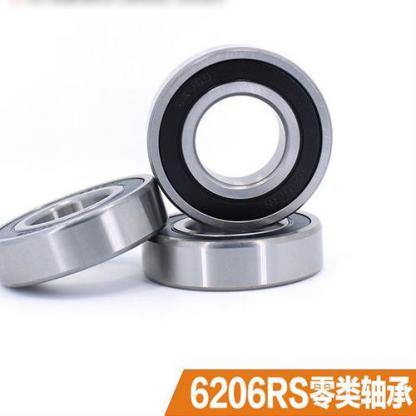FOD: (146, 38, 336, 232), (0, 172, 169, 296), (136, 204, 326, 296)
